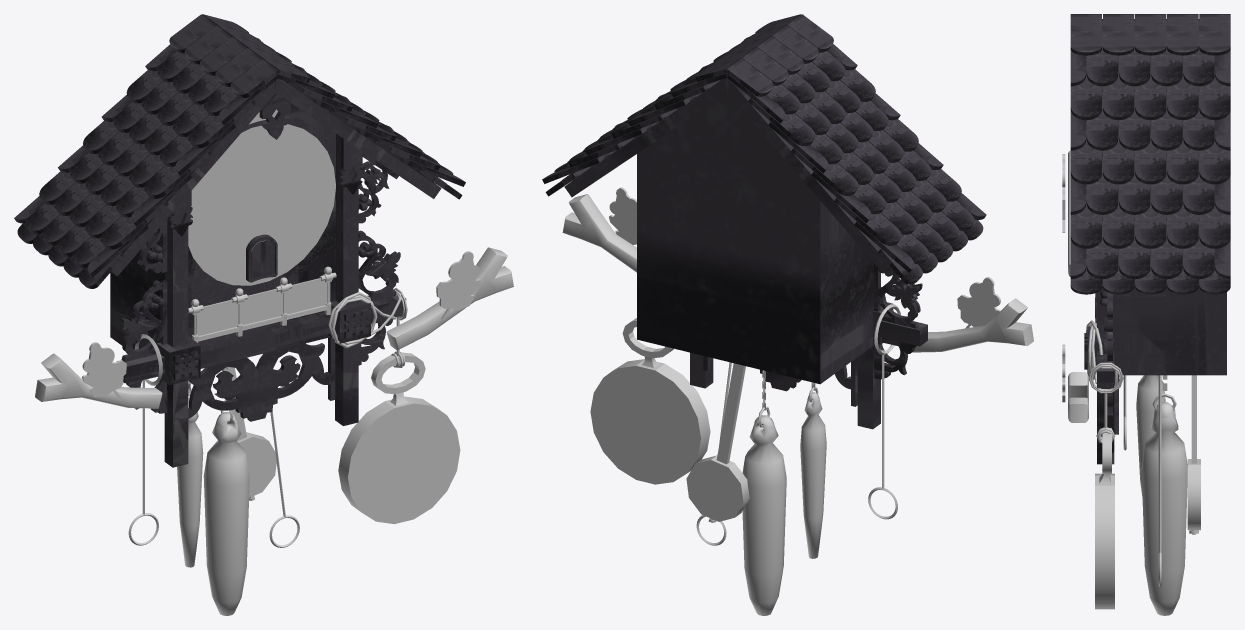
File: 뻐꾸기 시계_final03010.fbx
3 views of the same model, side by side, from view 1: azimuth 30°, elevation 25°; view 2: azimuth 150°, elevation 25°; view 3: azimuth 270°, elevation 25° (orthographic). The views are drawn at different scales.
Parts seen in each view (by area): view 1: Body, Object071, Object073, Object087, Object086, Object081, Object082, Object076, Object084; view 2: Body, Object071, Object087, Object082, Object081; view 3: Body, Object087, Object071, Object082, Object086.
Part boxes in pixels (<box>): Body: <box>14,14,465,467</box>; Object071: <box>35,247,513,547</box>; Object073: <box>188,124,335,285</box>; Object087: <box>177,398,249,615</box>; Object086: <box>122,137,400,348</box>; Object081: <box>436,251,480,320</box>; Object082: <box>82,342,126,399</box>; Object076: <box>240,181,283,237</box>; Object084: <box>259,94,290,139</box>; Body: <box>542,14,986,429</box>; Object071: <box>562,194,1033,545</box>; Object087: <box>742,392,826,615</box>; Object082: <box>957,277,1000,328</box>; Object081: <box>609,187,636,244</box>; Body: <box>1070,14,1230,464</box>; Object087: <box>1136,375,1187,615</box>; Object071: <box>1068,150,1200,609</box>; Object082: <box>1062,154,1065,232</box>; Object086: <box>1100,290,1107,353</box>.
Size of the model in its own units: 197 by 229 by 58.15.
